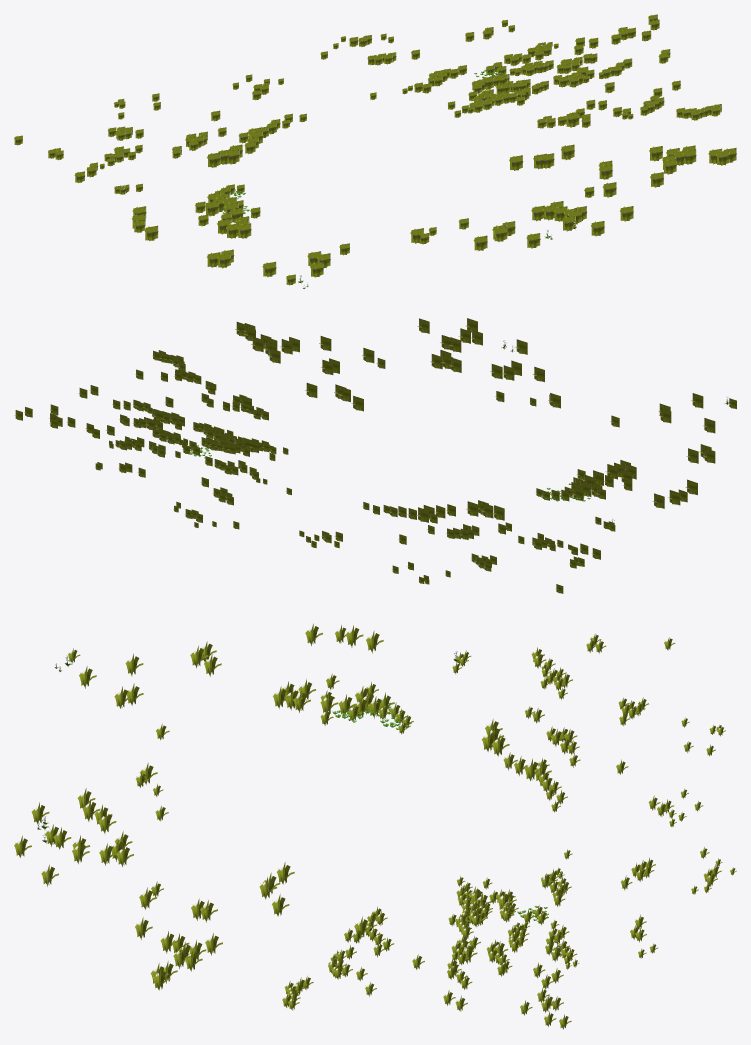
The model's file is Sce_bf_grass.FBX.
The picture shows the model from 3 angles, top to bottom: view 1: azimuth 30°, elevation 25°; view 2: azimuth 150°, elevation 25°; view 3: azimuth 270°, elevation 25°; orthographic projection. The views are drawn at different scales.
Parts seen in each view (by area): view 1: Grass0173; view 2: Grass0173; view 3: Grass0173.
Boxes of the visible parts, x1,y1,x2,y2 form: Grass0173: (14,14,736,288); Grass0173: (14,318,736,593); Grass0173: (14,623,736,1029).
Size of the model in its own units: 1917 by 93.72 by 1494.
